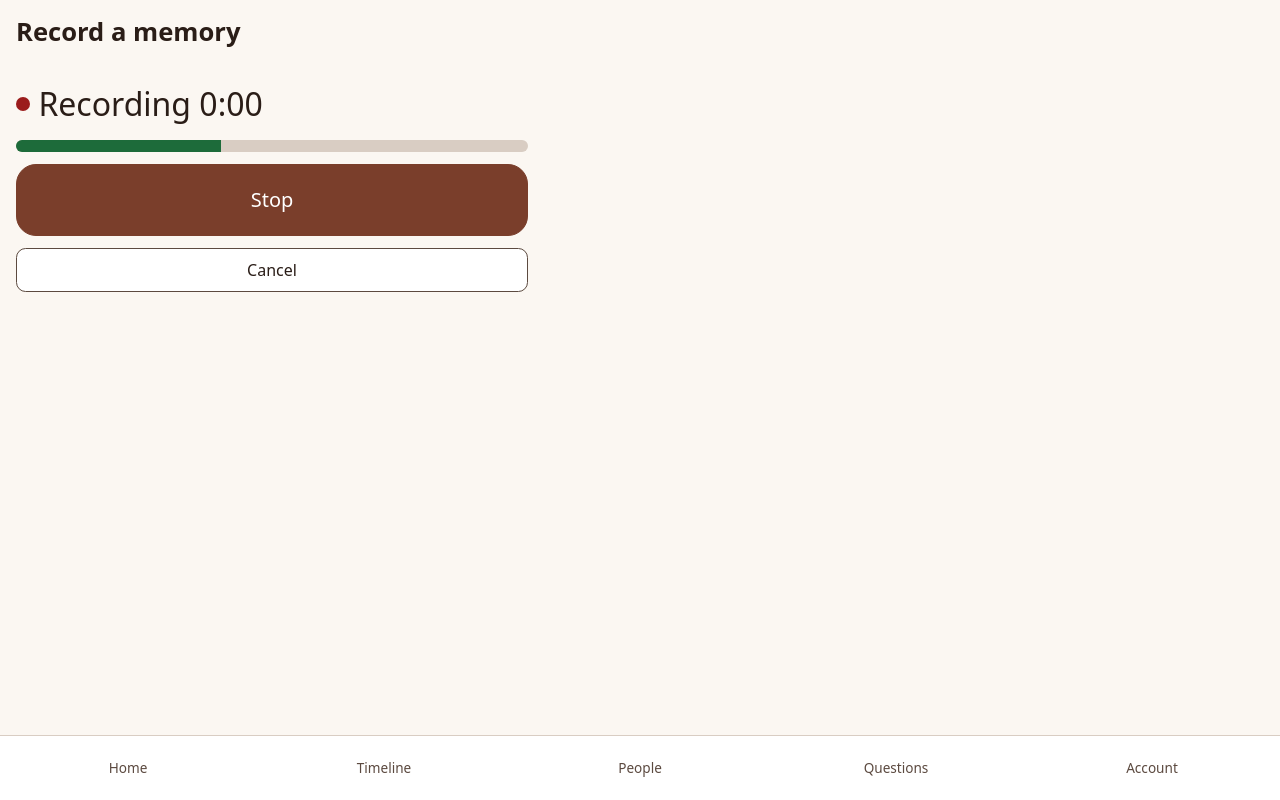
it: cancel says the recording was discarded
Click the button "Cancel". click: (272, 270)
box: [16,248,528,292]
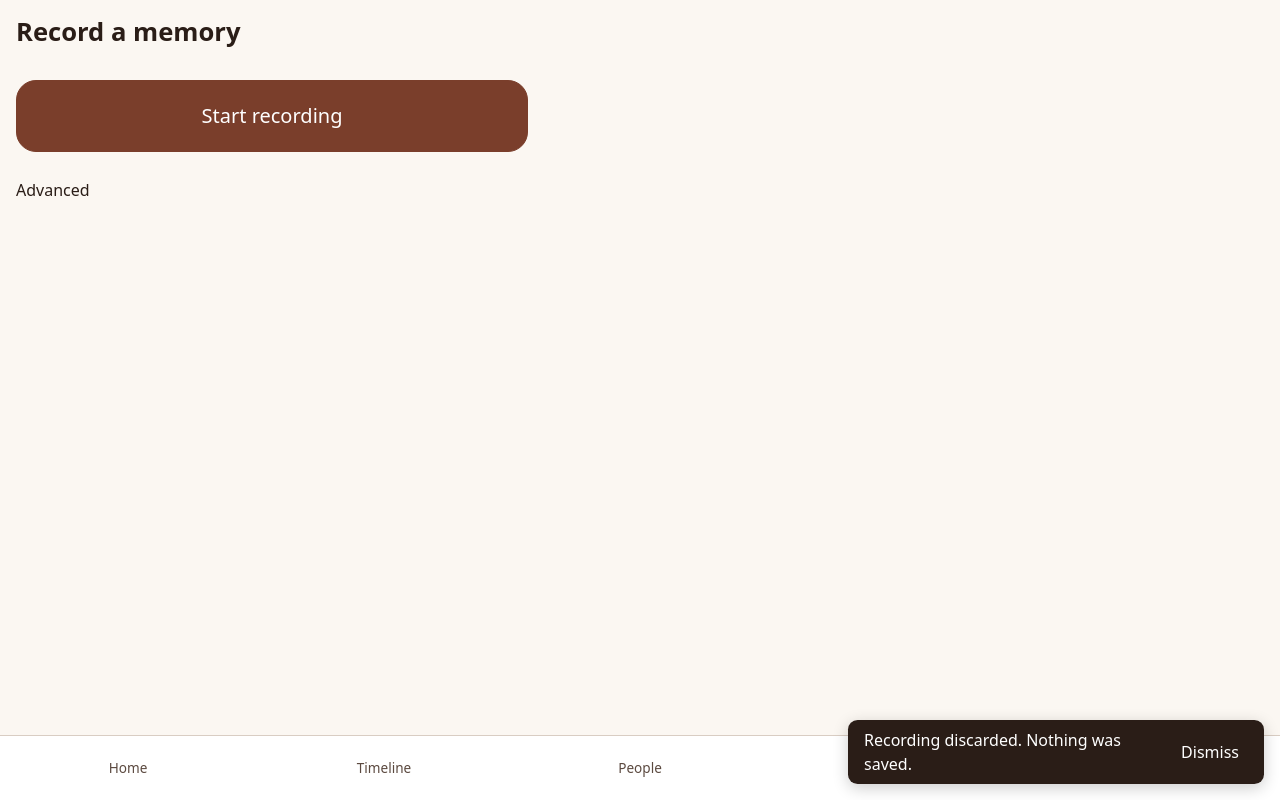
Check: the text "Recording discarded. Nothing was saved." is shown, box [864,728,1152,776]
Check: the button "Start recording" is shown, box [16,80,528,152]
